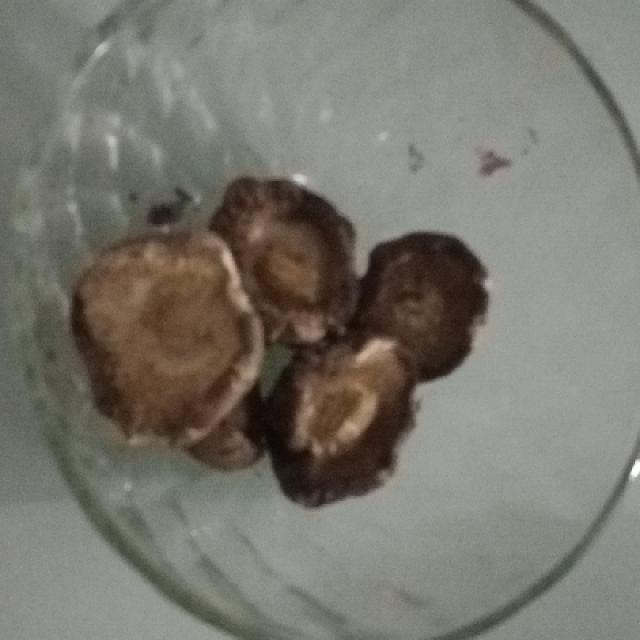Lentinus edodes: (63, 231, 270, 450), (269, 330, 417, 509), (216, 176, 362, 344), (359, 231, 491, 380)
